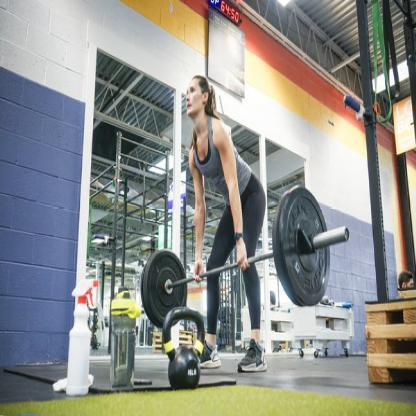Barbell: (344, 224, 352, 244)
